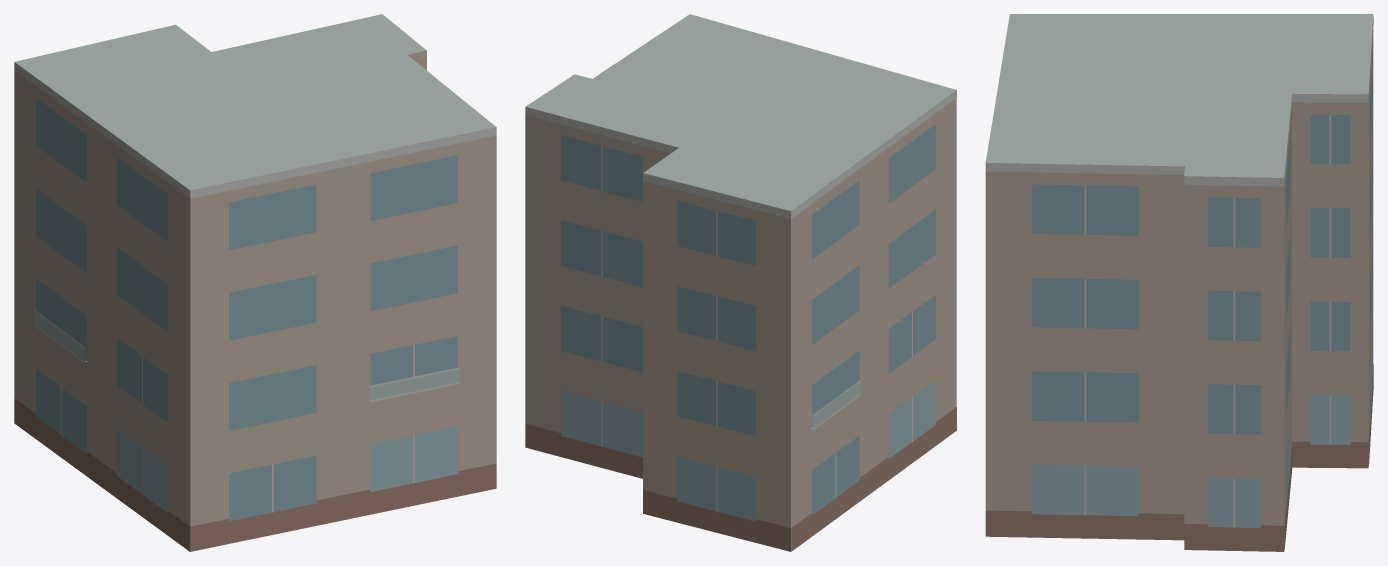
Rendered from survey-upis-32854848.glb.
3 renders of one model, left to right at view 1: azimuth 30°, elevation 25°; view 2: azimuth 150°, elevation 25°; view 3: azimuth 270°, elevation 25°, orthographic. The views are drawn at different scales.
Parts seen in each view (by area): view 1: survey-upis-32854848.tmp; view 2: survey-upis-32854848.tmp; view 3: survey-upis-32854848.tmp.
Boxes of the visible parts, bbox=[...] form: survey-upis-32854848.tmp: bbox=[14, 14, 496, 551]; survey-upis-32854848.tmp: bbox=[525, 14, 956, 551]; survey-upis-32854848.tmp: bbox=[985, 14, 1373, 551].
Size of the model in its own units: 10.02 by 10.6 by 9.98.
